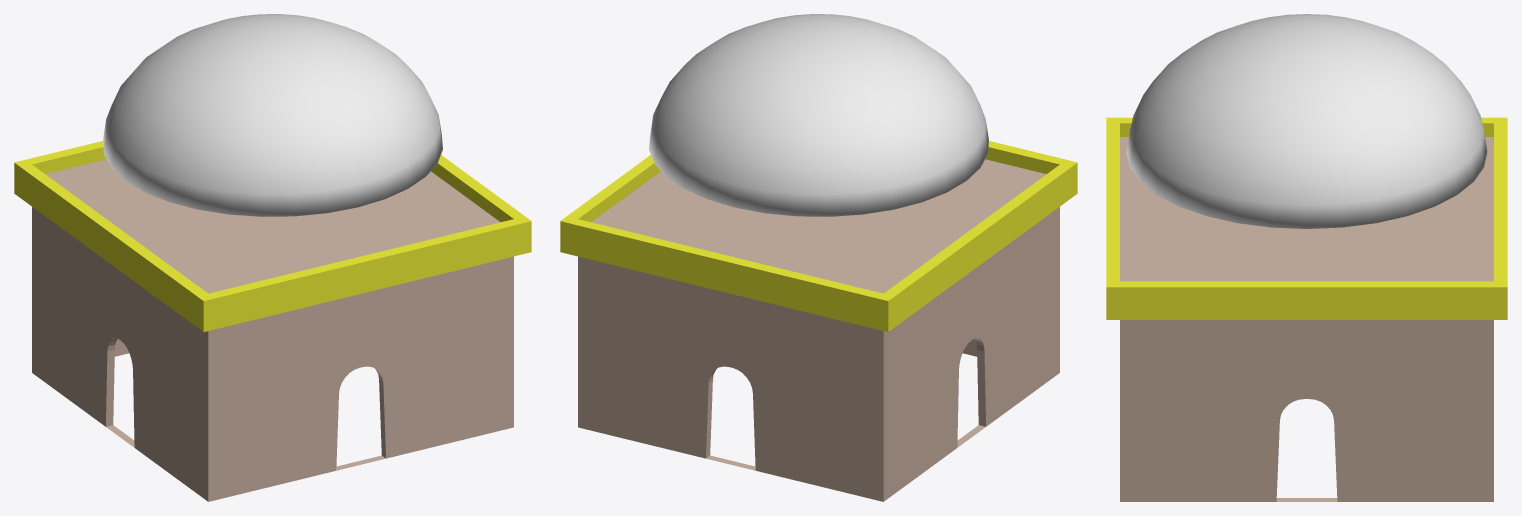
The model's file is BigHouse.fbx.
3 views of the same model, side by side, from view 1: azimuth 30°, elevation 25°; view 2: azimuth 150°, elevation 25°; view 3: azimuth 270°, elevation 25° (orthographic). The views are drawn at different scales.
Visible parts, largest first — view 1: BigHouse, BigHouse.001; view 2: BigHouse, BigHouse.001; view 3: BigHouse, BigHouse.001.
Boxes of the visible parts, box(x1,y1,x2,y2) form: BigHouse: box(14, 141, 531, 501); BigHouse.001: box(103, 14, 442, 216); BigHouse: box(560, 141, 1077, 501); BigHouse.001: box(649, 14, 988, 216); BigHouse: box(1106, 117, 1507, 501); BigHouse.001: box(1126, 14, 1487, 228).
Size of the model in its own units: 75.74 by 75.74 by 80.43.
